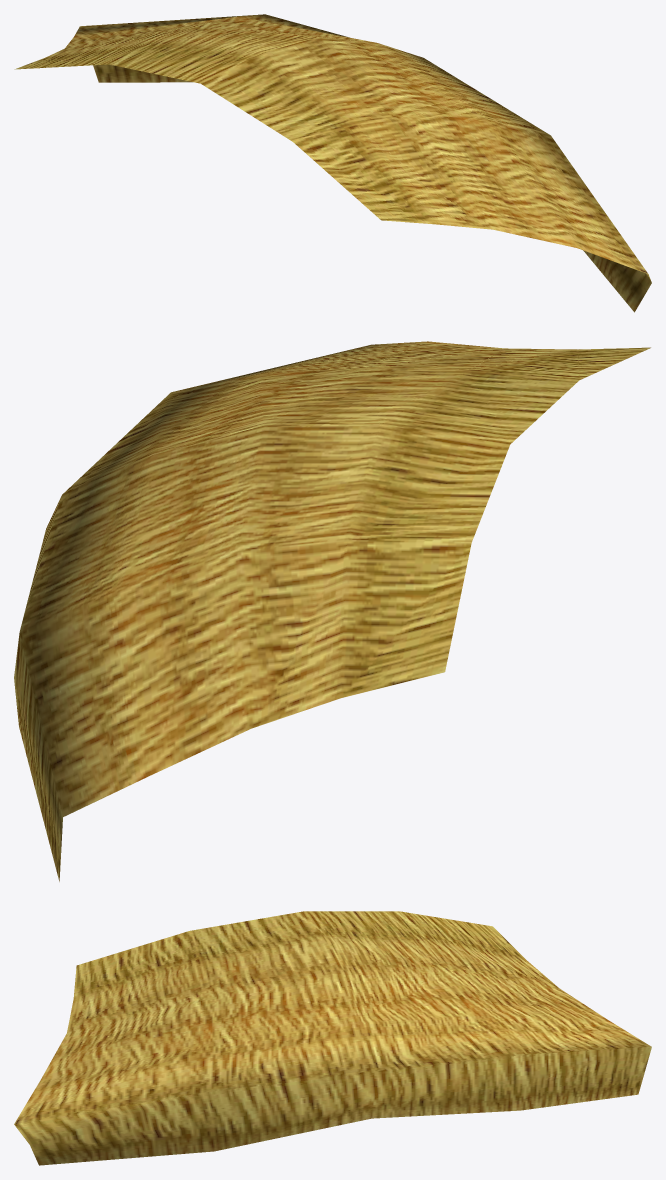
The model's file is HTOWN01_HANNA-AWNING.fbx.
3 views of the same model, one above another, from view 1: azimuth 30°, elevation 25°; view 2: azimuth 150°, elevation 25°; view 3: azimuth 270°, elevation 25° (orthographic). The views are drawn at different scales.
Parts seen in each view (by area): view 1: HTOWN01_HANNA-AWNING; view 2: HTOWN01_HANNA-AWNING; view 3: HTOWN01_HANNA-AWNING.
Boxes of the visible parts, x1,y1,x2,y2 form: HTOWN01_HANNA-AWNING: [14, 14, 651, 312]; HTOWN01_HANNA-AWNING: [14, 341, 650, 881]; HTOWN01_HANNA-AWNING: [14, 911, 651, 1165].
Size of the model in its own units: 24932 by 11577 by 45372.
Materials: 2 (2 with a texture image).
